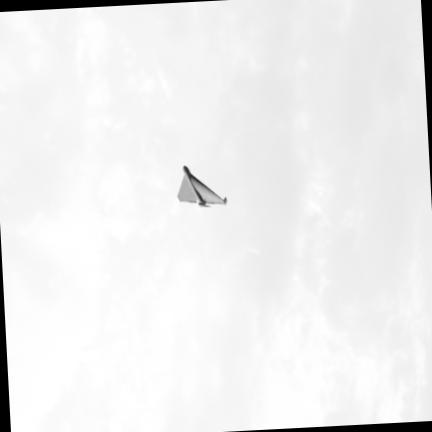Shahed: (178, 166, 226, 206)
